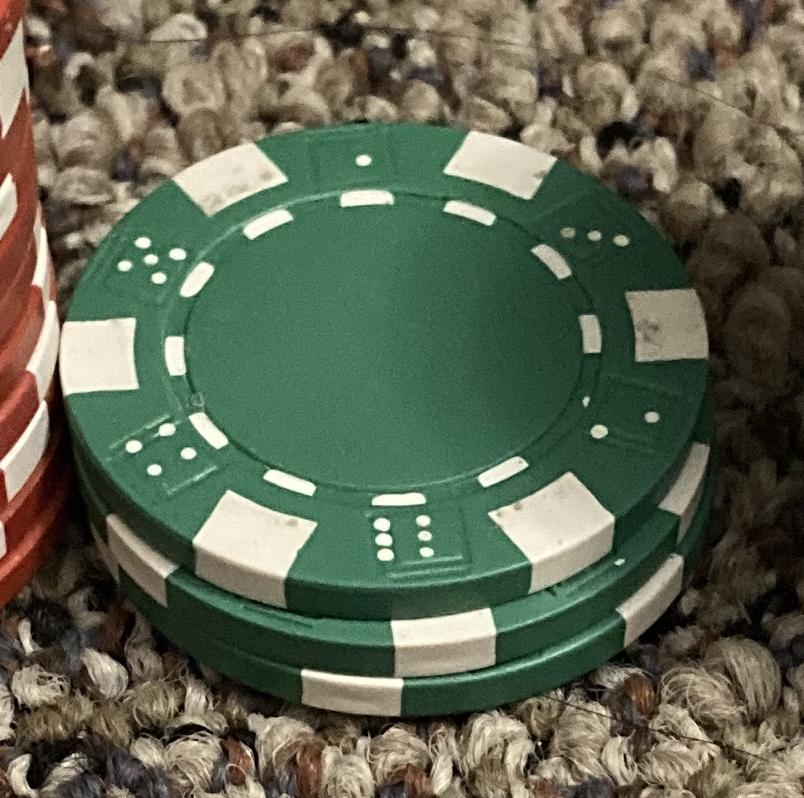Chip: (1, 1, 804, 798)
